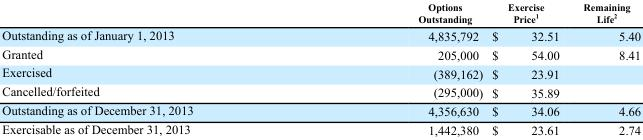table: (1, 1, 640, 137)
table column: (1, 1, 305, 137), (305, 1, 486, 137), (486, 1, 570, 137), (570, 1, 640, 137)
table column header: (1, 1, 640, 25)
table row: (1, 1, 640, 25), (1, 25, 640, 44), (1, 44, 640, 63), (1, 63, 640, 82), (1, 82, 640, 101), (1, 101, 640, 120), (1, 120, 640, 137)
